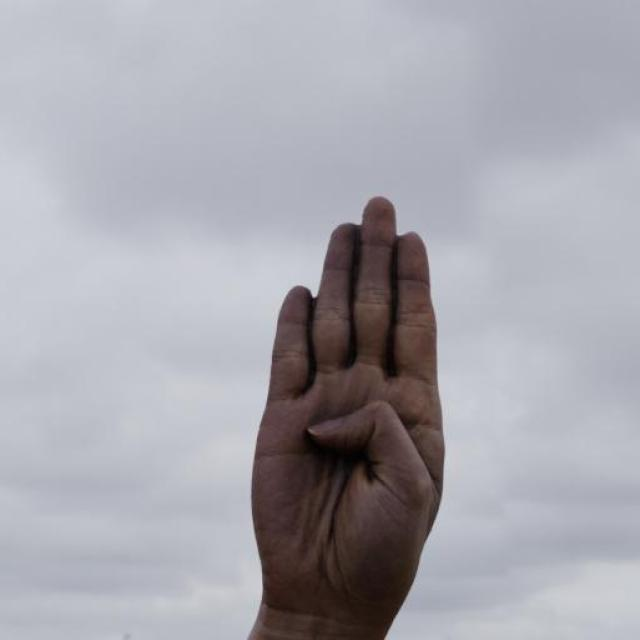B: (247, 176, 442, 612)
